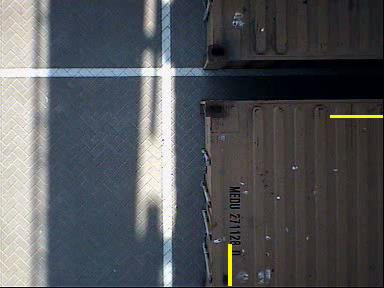groundmarker_2: (101, 55, 207, 125)
